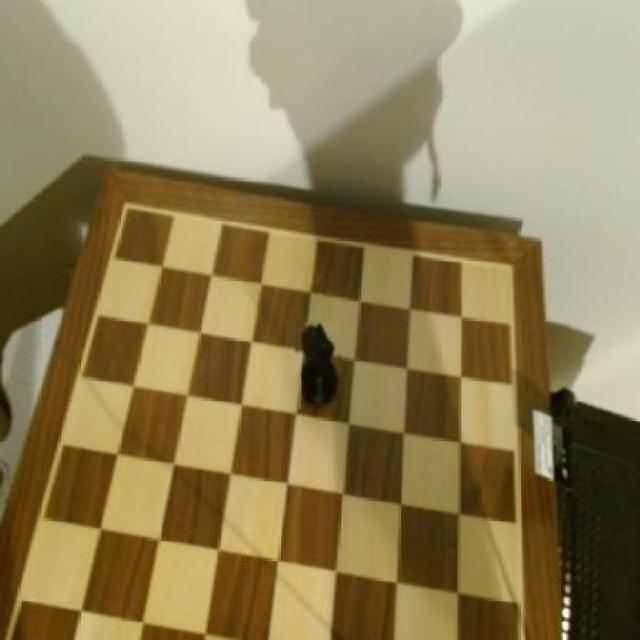black-king: (296, 322, 342, 409)
